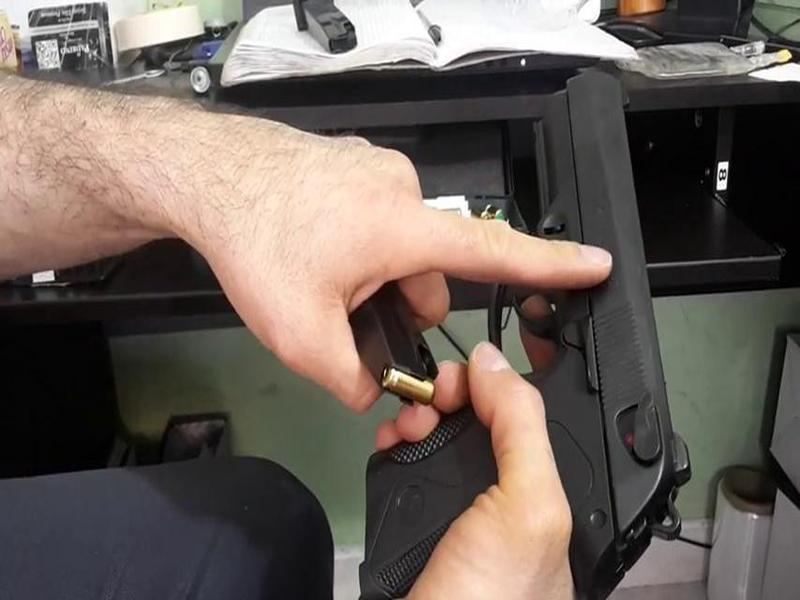Pistola: (469, 63, 689, 595)
